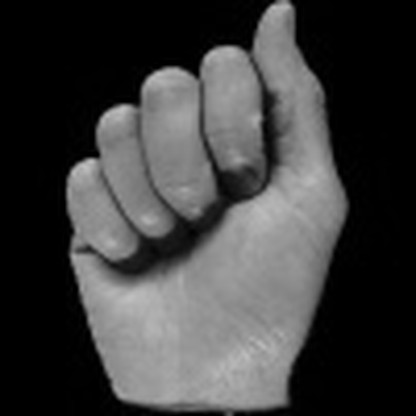a: (44, 4, 363, 416)
